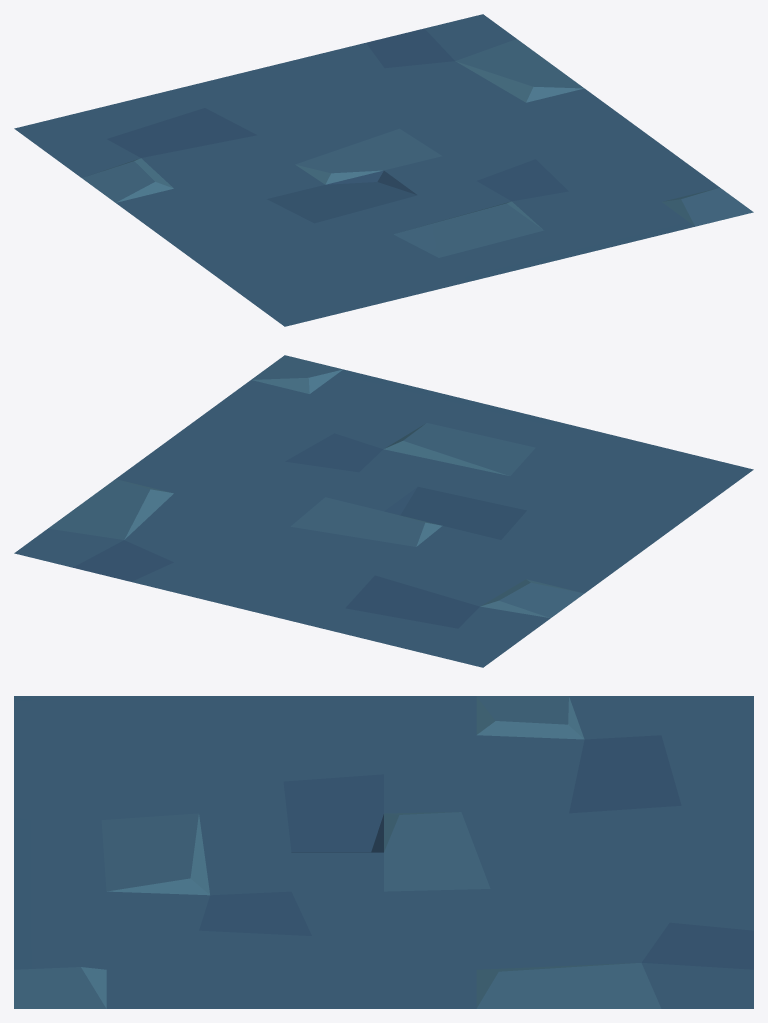
File: wall_4m_top.fbx
3 views of the same model, one above another, from view 1: azimuth 30°, elevation 25°; view 2: azimuth 150°, elevation 25°; view 3: azimuth 270°, elevation 25° (orthographic). The views are drawn at different scales.
Parts seen in each view (by area): view 1: wall_4m_top; view 2: wall_4m_top; view 3: wall_4m_top.
Boxes of the visible parts, bbox=[...] form: wall_4m_top: bbox=[14, 14, 753, 326]; wall_4m_top: bbox=[14, 355, 753, 667]; wall_4m_top: bbox=[14, 696, 753, 1008].
Bounding box in the file's own units: 400 × 10.07 × 400.
